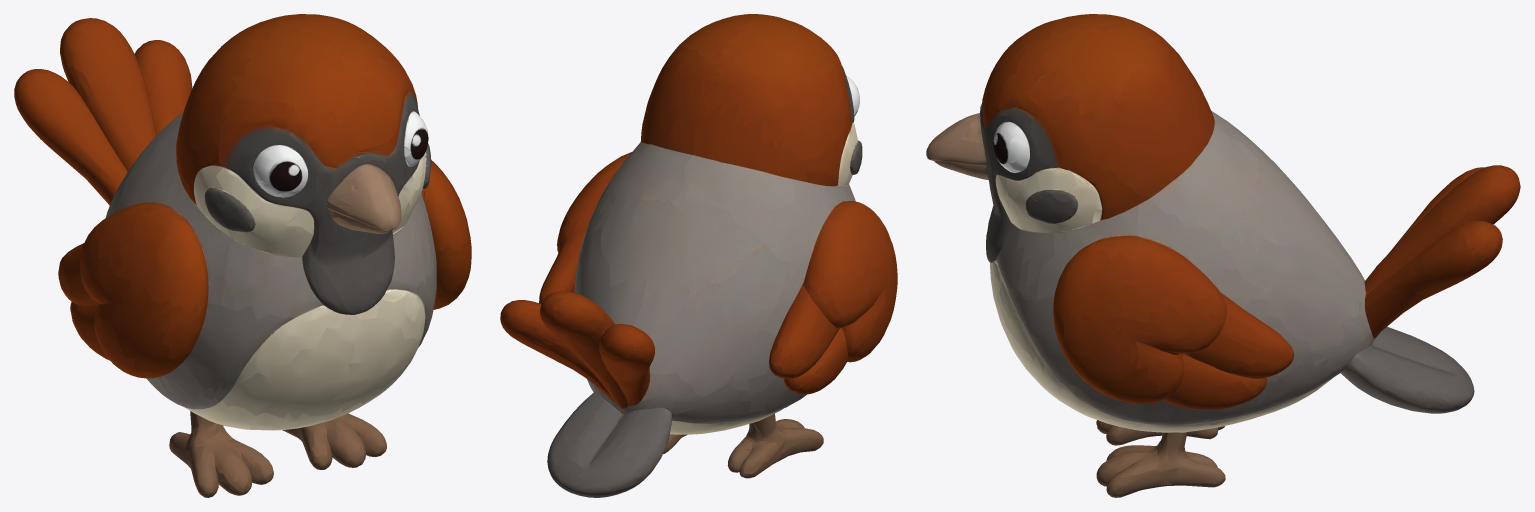
File: mus.glb
3 renders of one model, left to right at view 1: azimuth 30°, elevation 25°; view 2: azimuth 150°, elevation 25°; view 3: azimuth 270°, elevation 25°, orthographic. The views are drawn at different scales.
Parts seen in each view (by area): view 1: Mesh_0; view 2: Mesh_0; view 3: Mesh_0.
Part boxes in pixels (bbox=[...]): Mesh_0: bbox=[14, 14, 471, 497]; Mesh_0: bbox=[500, 14, 897, 497]; Mesh_0: bbox=[926, 14, 1520, 497].
Size of the model in its own units: 1.21 by 1.53 by 1.9.
1 material, 1 textured.
